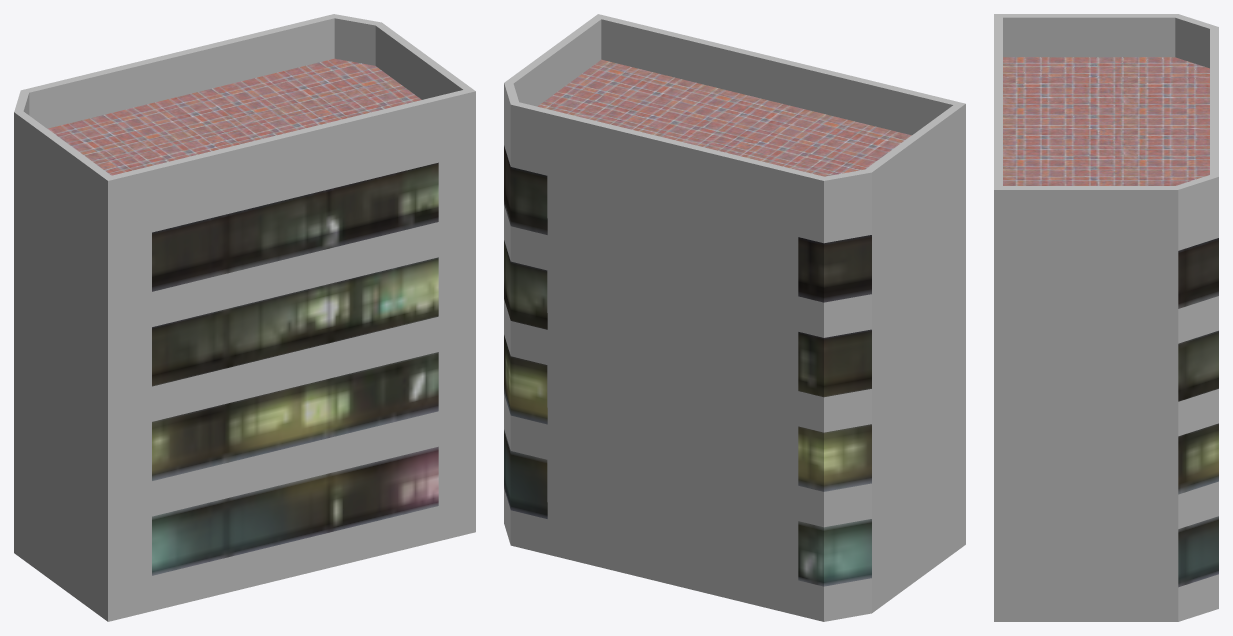
The model's file is hirise_parts02_4f.fbx.
3 renders of one model, left to right at view 1: azimuth 30°, elevation 25°; view 2: azimuth 150°, elevation 25°; view 3: azimuth 270°, elevation 25°, orthographic. The views are drawn at different scales.
Parts seen in each view (by area): view 1: hirise_parts02_4f; view 2: hirise_parts02_4f; view 3: hirise_parts02_4f.
Boxes of the visible parts, bbox=[...] form: hirise_parts02_4f: bbox=[14, 14, 475, 621]; hirise_parts02_4f: bbox=[504, 14, 965, 621]; hirise_parts02_4f: bbox=[994, 14, 1218, 621].
Size of the model in its own units: 12.59 by 14.42 by 6.8.
